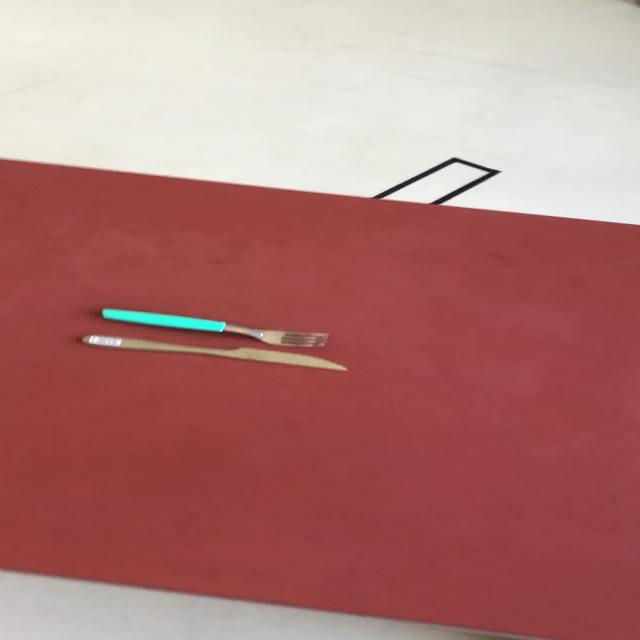fork: (78, 333, 348, 372), (97, 306, 330, 348)
knife fork: (77, 333, 348, 372), (98, 306, 330, 348)
